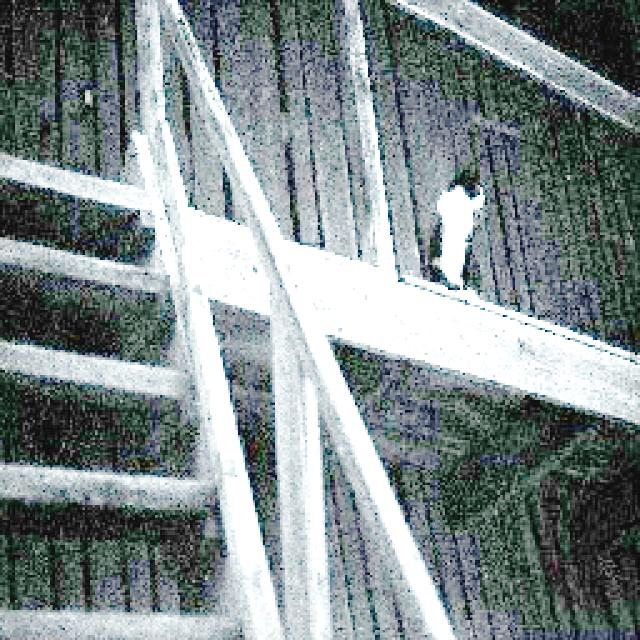cat: (403, 150, 508, 305)
